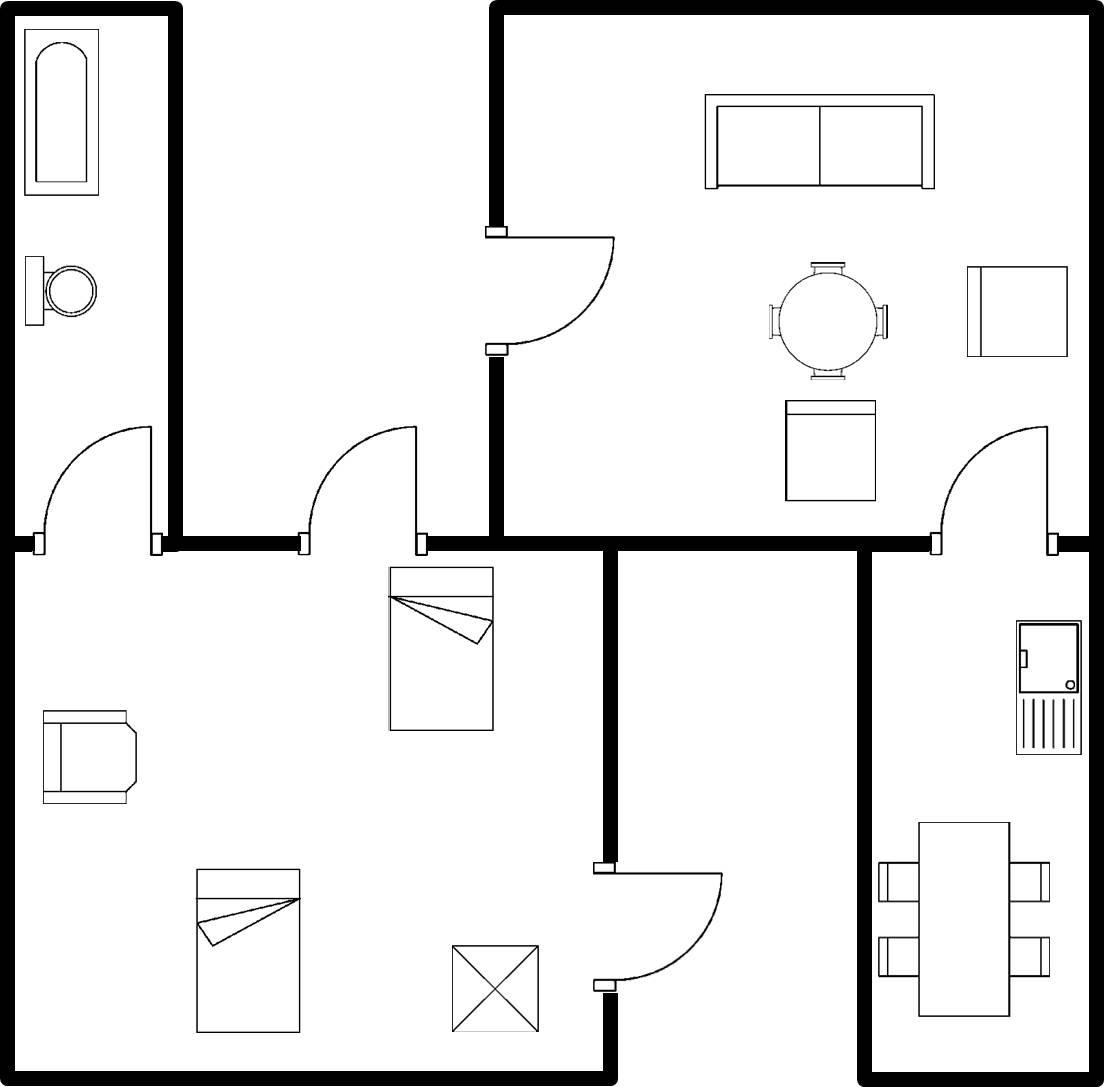bed: (378, 559, 501, 742), (186, 858, 306, 1043)
dining_table: (871, 811, 1060, 1026)
round_table: (756, 253, 897, 387)
sink: (1009, 613, 1088, 763)
sofa: (693, 84, 942, 199)
toilet: (32, 699, 145, 812), (19, 243, 103, 339)
tub: (17, 22, 111, 207)
